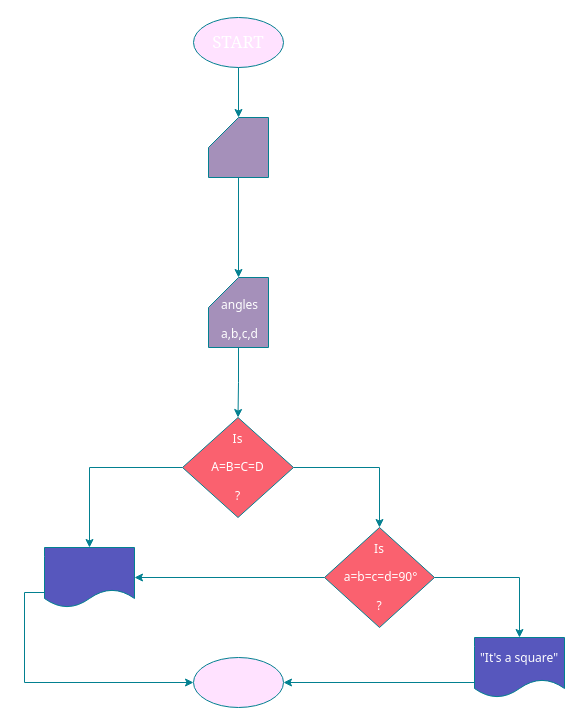
Some shapes in this 582 by 725 pixel diagram are drawn without their labels. Here are the shapes that lost their labels. From the top down, the centre of each, then its label:
pixel 238 147: A,B,C,D
pixel 89 577: "Not a square"
pixel 238 682: END
